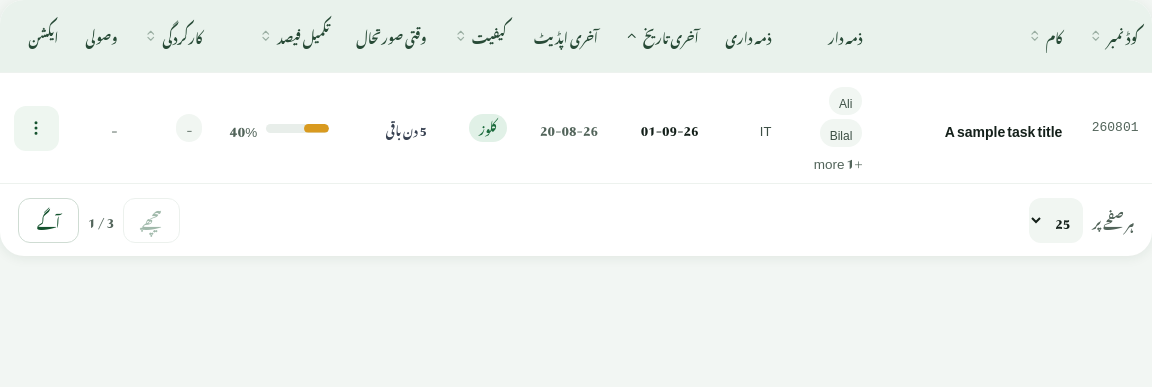
Test case: TaskTable (docs/08-ui-ux.md §6) › Admin role: Edit is disabled for an already-closed task
Click the button named "اقدامات".
click(36, 128)  # box x1=14 y1=106 x2=58 y2=151
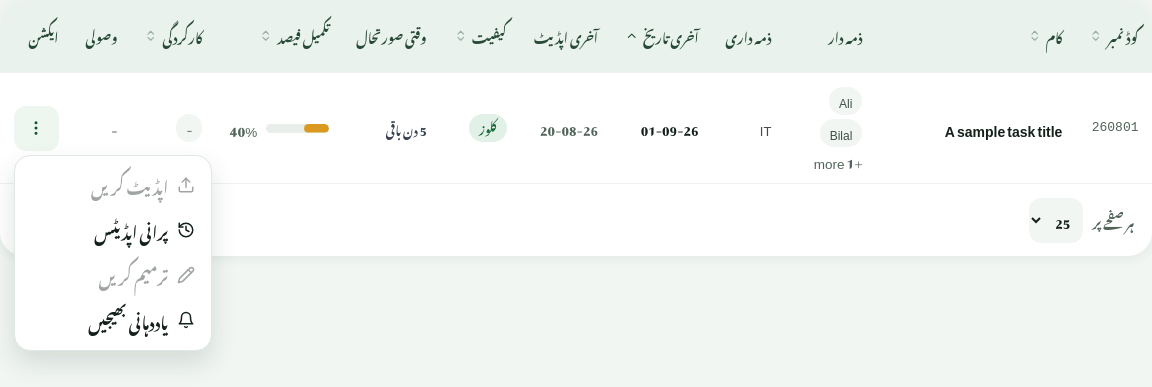
Now the button labelled "ترمیم کریں" is disabled, box x1=22 y1=253 x2=204 y2=298
